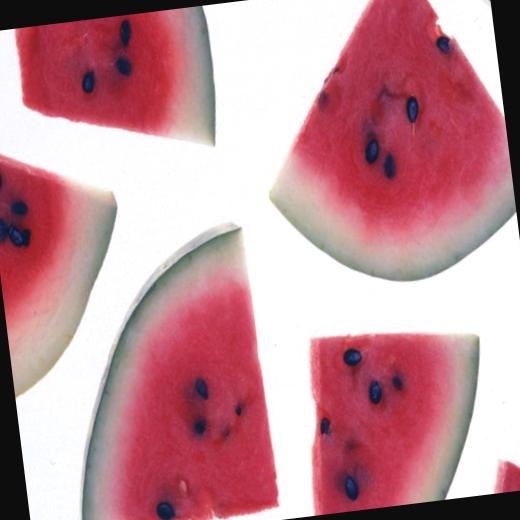Cherry: (244, 0, 520, 298), (45, 219, 283, 520), (290, 318, 497, 516), (0, 131, 137, 398), (13, 5, 221, 167), (488, 452, 520, 493)
